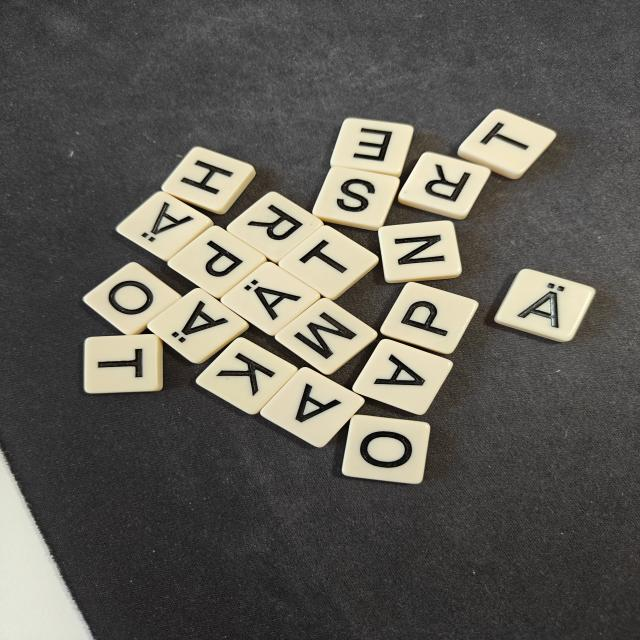a: (260, 368, 364, 447), (352, 339, 452, 415)
a_dot: (148, 288, 249, 363), (221, 262, 320, 336), (495, 269, 595, 342), (116, 191, 213, 261)
e: (330, 118, 414, 177)
h: (162, 147, 255, 214)
k: (196, 337, 298, 414)
m: (275, 298, 377, 375)
n: (378, 221, 461, 283)
o: (83, 262, 182, 335), (342, 415, 430, 483)
p: (380, 282, 478, 354), (168, 226, 266, 298)
r: (227, 192, 323, 263), (398, 152, 490, 219)
s: (312, 167, 399, 230)
t: (279, 225, 378, 300), (458, 109, 556, 179), (84, 334, 163, 394)
